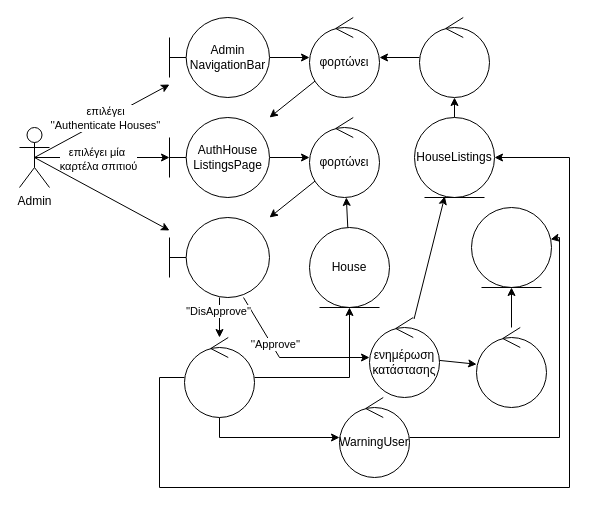
This 595x513 diagram has some shape labels left out. The centre of each missing label's shape, as x and y in pixels:
"Get pending" goes at (x=454, y=57).
"HouseDetail Page" goes at (x=219, y=257).
"Warning" goes at (x=511, y=247).
"Warning User" goes at (x=511, y=367).
"διαγραφή HouseListing και House" goes at (x=219, y=377).
